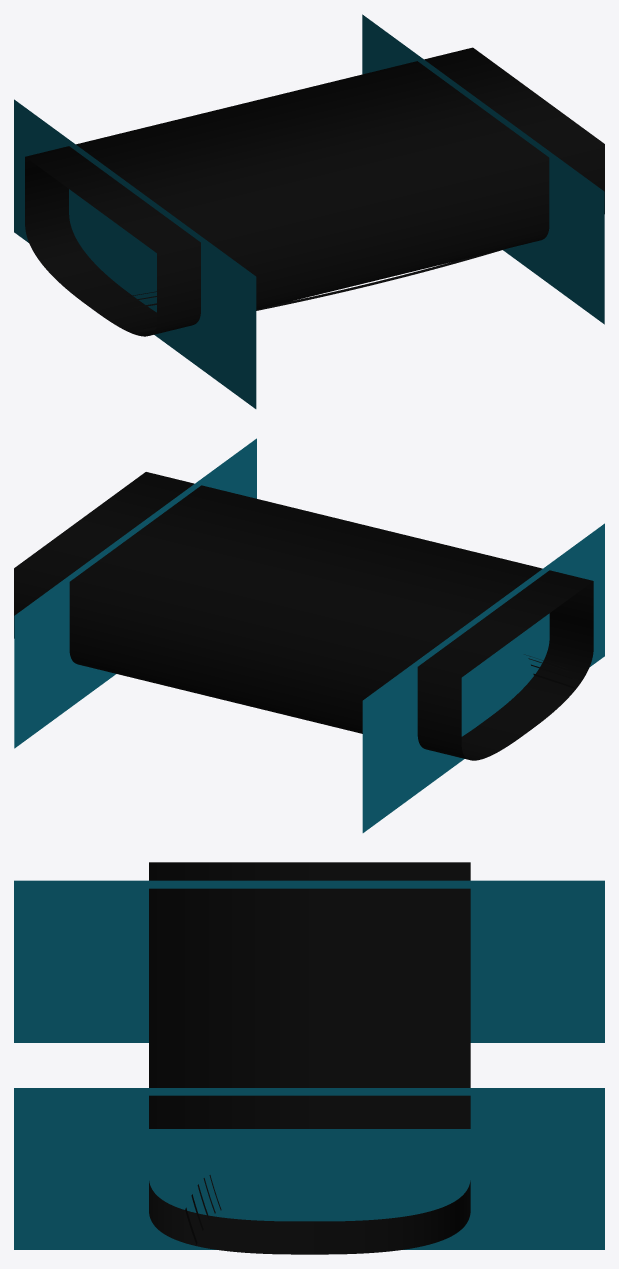
The picture shows the model from 3 angles, top to bottom: view 1: azimuth 30°, elevation 25°; view 2: azimuth 150°, elevation 25°; view 3: azimuth 270°, elevation 25°; orthographic projection. The views are drawn at different scales.
Visible parts, largest first — view 1: Plane002, Plane004, Plane003, Plane005; view 2: Plane002, Plane004, Plane003; view 3: Plane002, Plane003, Plane004.
Part boxes in pixels (x1=…): Plane002: x1=25, y1=47, x2=604, y2=336; Plane004: x1=14, y1=99, x2=256, y2=408; Plane003: x1=362, y1=14, x2=604, y2=324; Plane005: x1=126, y1=248, x2=506, y2=332; Plane002: x1=14, y1=472, x2=593, y2=760; Plane004: x1=362, y1=523, x2=604, y2=832; Plane003: x1=14, y1=438, x2=256, y2=748; Plane002: x1=149, y1=862, x2=470, y2=1254; Plane003: x1=14, y1=1088, x2=604, y2=1249; Plane004: x1=14, y1=880, x2=604, y2=1042.
Size of the model in its own units: 60.68 by 17.02 by 56.26.
